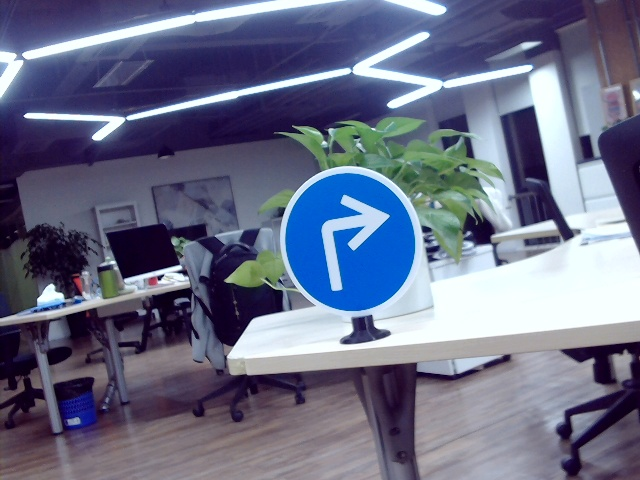turn_right: (314, 197, 391, 291)
